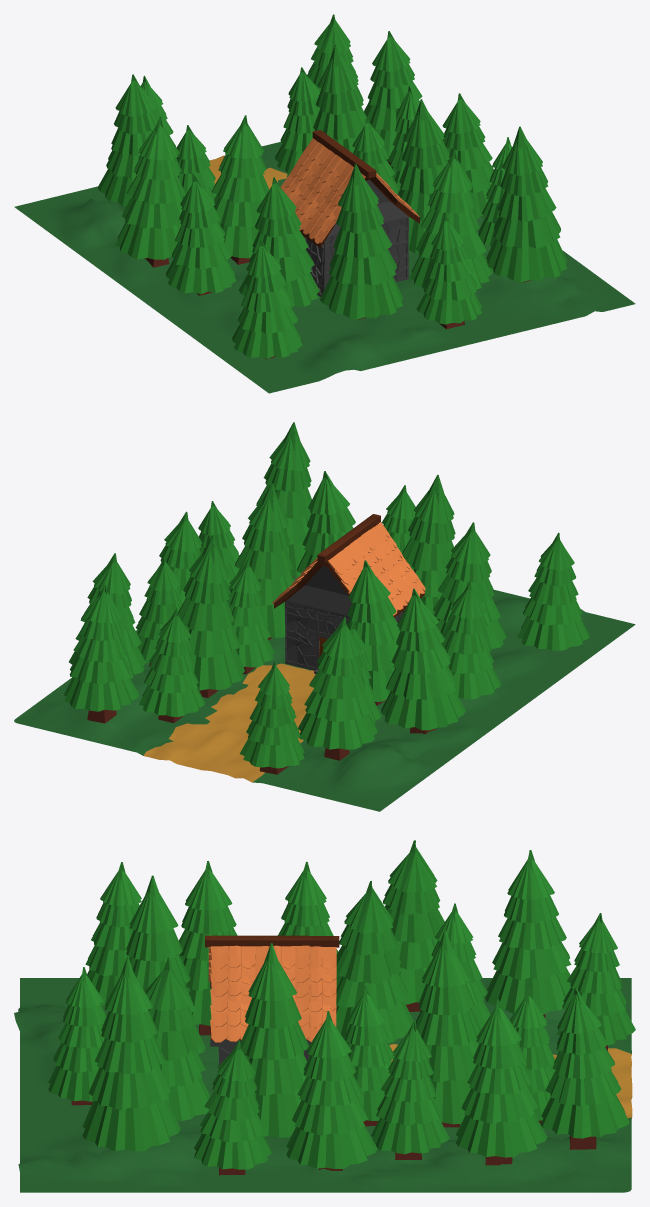
The model's file is roomwitch.fbx.
3 renders of one model, top to bottom at view 1: azimuth 30°, elevation 25°; view 2: azimuth 150°, elevation 25°; view 3: azimuth 270°, elevation 25°, orthographic. The views are drawn at different scales.
Visible parts, largest first — view 1: Plane.022, Dataran, Plane.021, Plane, Plane.024; view 2: Plane.022, Dataran, Plane, Plane.021, Plane.024; view 3: Plane.022, Dataran, Plane.003, Plane.
Part boxes in pixels (bbox=[...]): Plane.022: bbox=[97, 14, 567, 359]; Dataran: bbox=[14, 142, 635, 393]; Plane.021: bbox=[280, 138, 365, 243]; Plane: bbox=[300, 130, 419, 296]; Plane.024: bbox=[308, 180, 408, 295]; Plane.022: bbox=[64, 422, 589, 774]; Dataran: bbox=[14, 554, 635, 811]; Plane: bbox=[274, 514, 424, 673]; Plane.021: bbox=[327, 522, 425, 615]; Plane.024: bbox=[285, 566, 399, 670]; Plane.022: bbox=[48, 840, 635, 1175]; Dataran: bbox=[14, 978, 632, 1192]; Plane.003: bbox=[210, 945, 336, 1042]; Plane: bbox=[205, 935, 339, 1065].
Bounding box in the file's own units: 12061 × 5684 × 14771.
